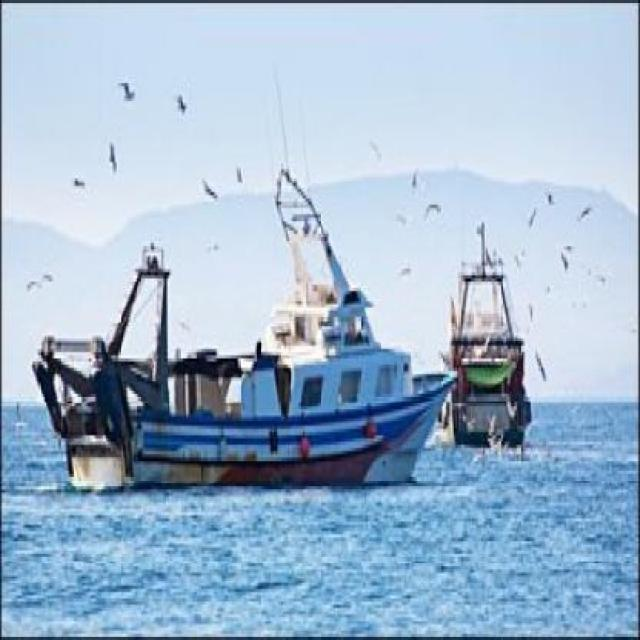fish-b: (34, 148, 471, 509), (435, 219, 547, 474)
